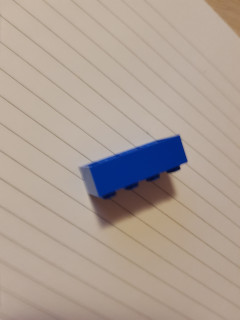2x4 blue: (77, 132, 190, 201)
